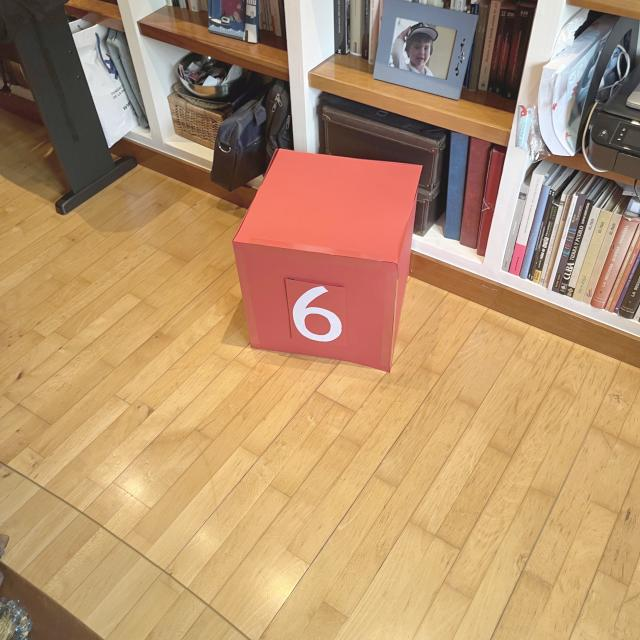box: (229, 146, 424, 374)
